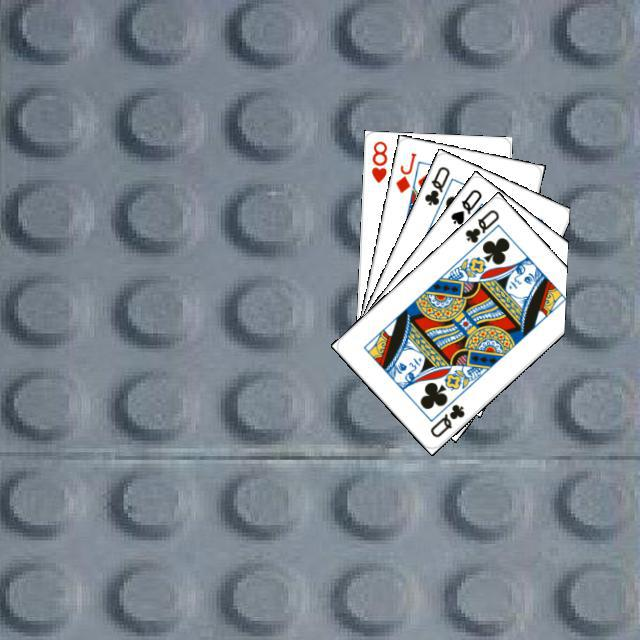8h: (367, 136, 389, 184)
Jd: (391, 148, 418, 195)
Qc: (460, 204, 502, 253), (419, 161, 457, 215), (425, 399, 466, 439)
Qs: (446, 184, 484, 226)
